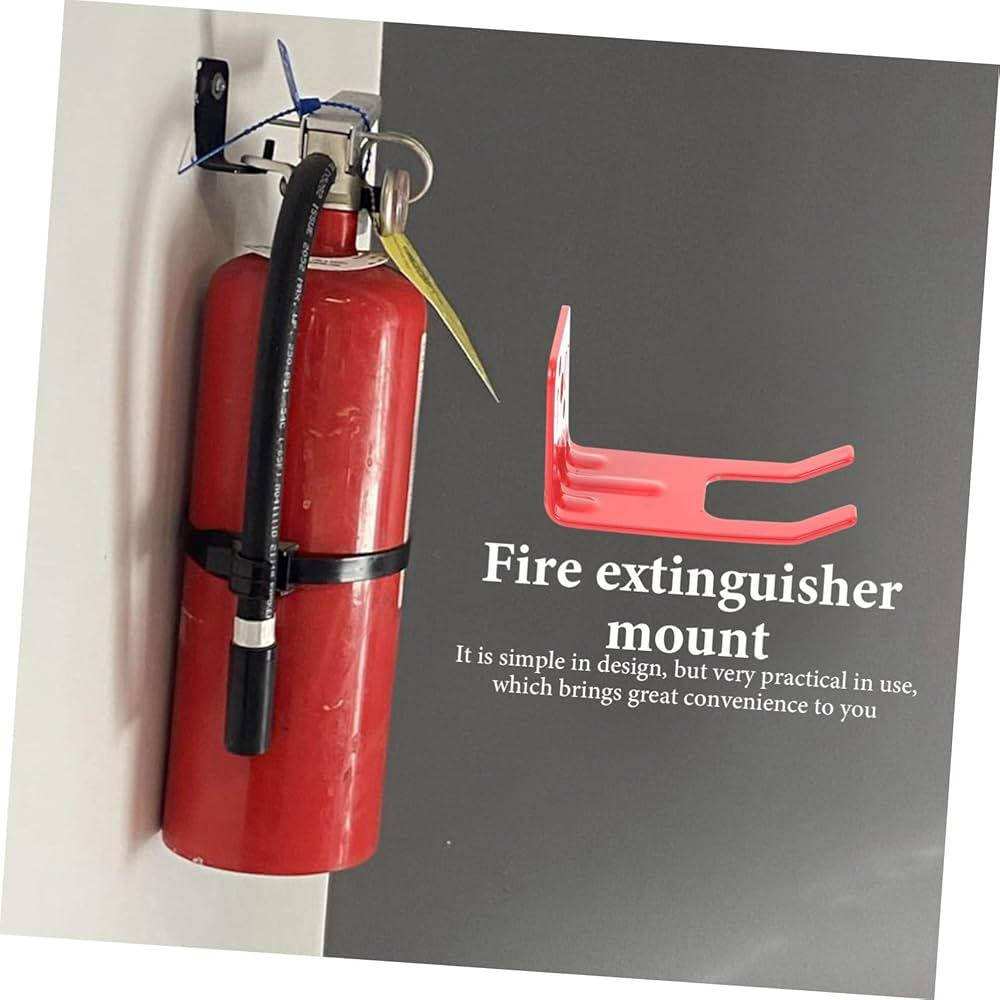wall-mounted: (150, 35, 483, 897)
